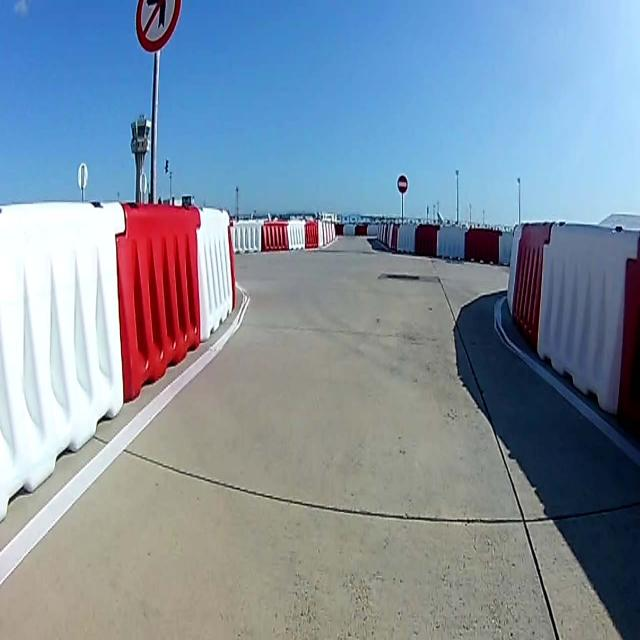girisyok: (398, 175, 408, 192)
soladonulmez: (137, 1, 181, 48)
